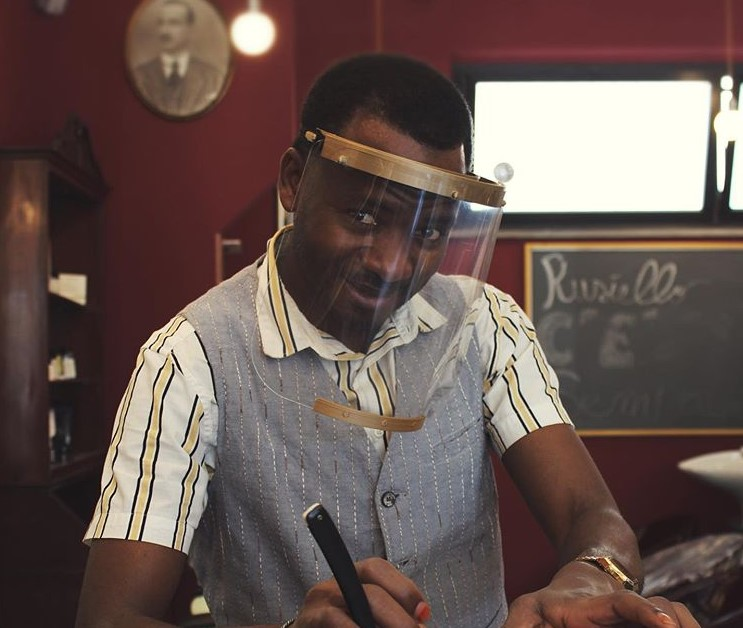face_no_mask: (298, 94, 454, 324)
